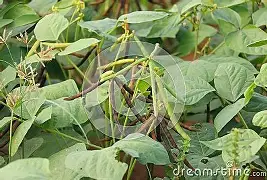crops: (0, 0, 263, 177)
